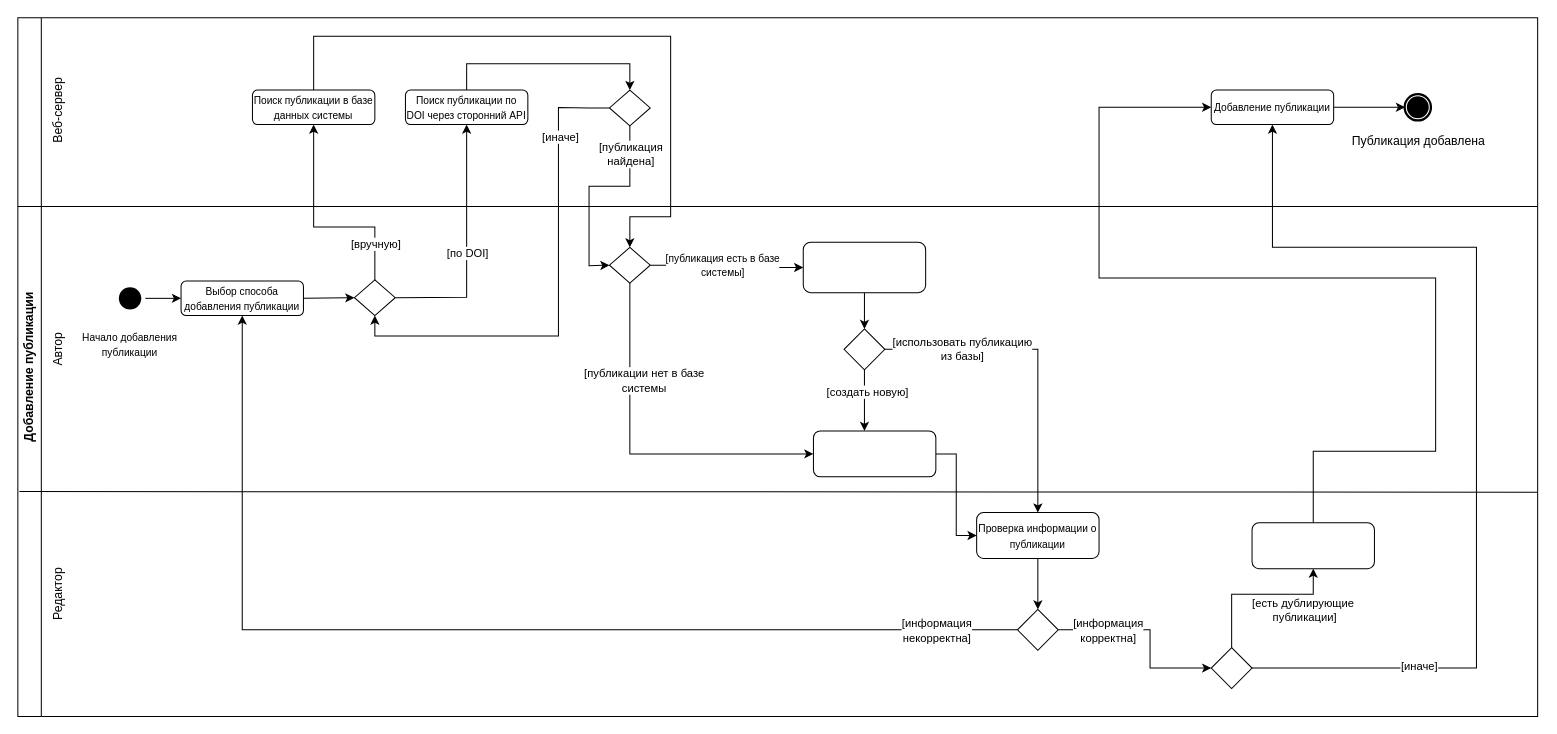
The diagram is 1557 pixels wide and 734 high, and some of its shapes have lost their labels. The box of each missing label's shape, as (x1, y1, x2, y2) in pixels:
Выбор способа добавления найденной публикации: (802, 241, 926, 293)
Заполнение информации о публикации: (812, 430, 936, 477)
Объединение публикаций: (1251, 522, 1374, 569)
